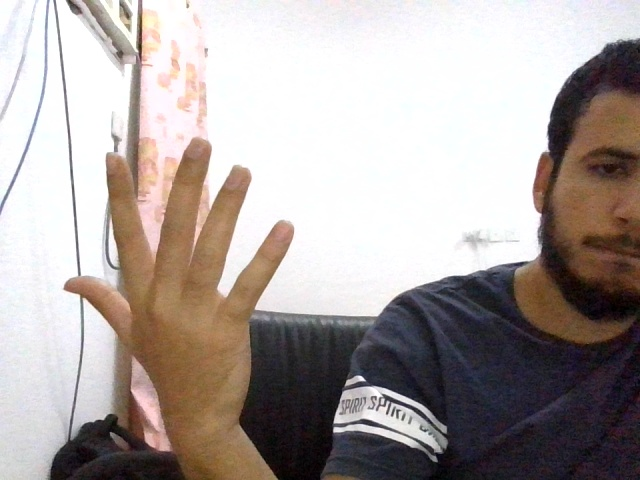Five: (61, 138, 295, 416)
